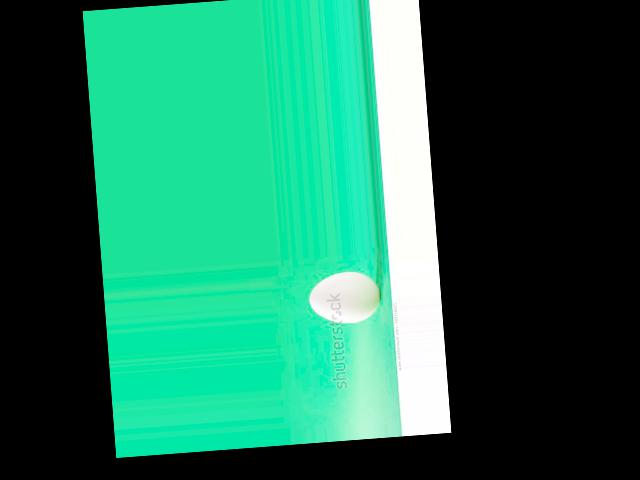egg: (307, 268, 383, 325)
